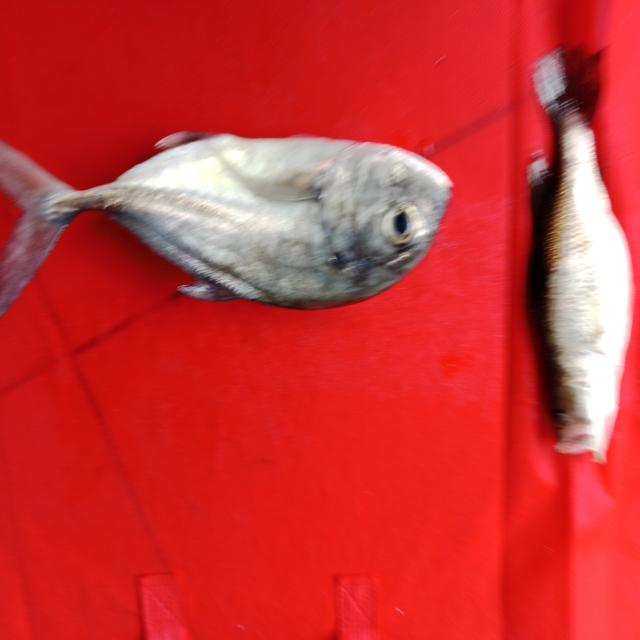ikan: (7, 100, 464, 334), (516, 34, 634, 481)
